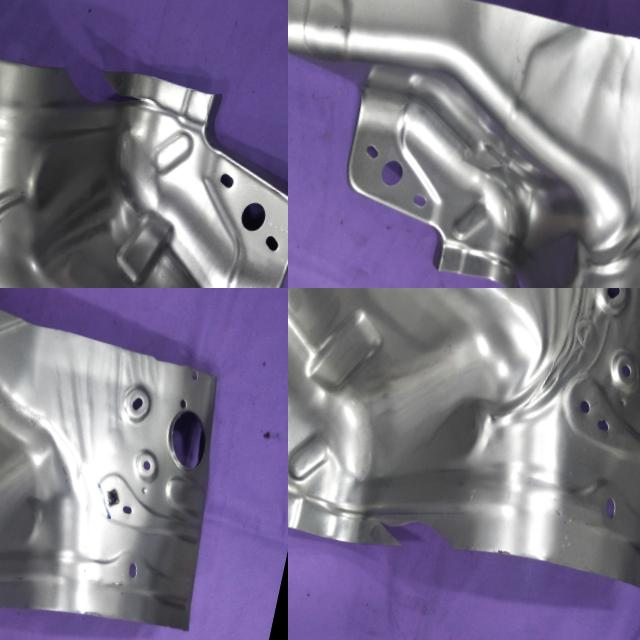Defect: (348, 488, 467, 578), (43, 58, 149, 121), (499, 259, 536, 288)
Healthy: (0, 288, 251, 640)
